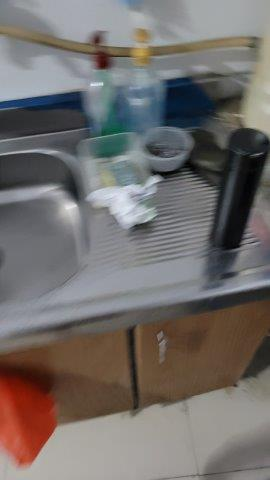kertas: (86, 176, 164, 229)
